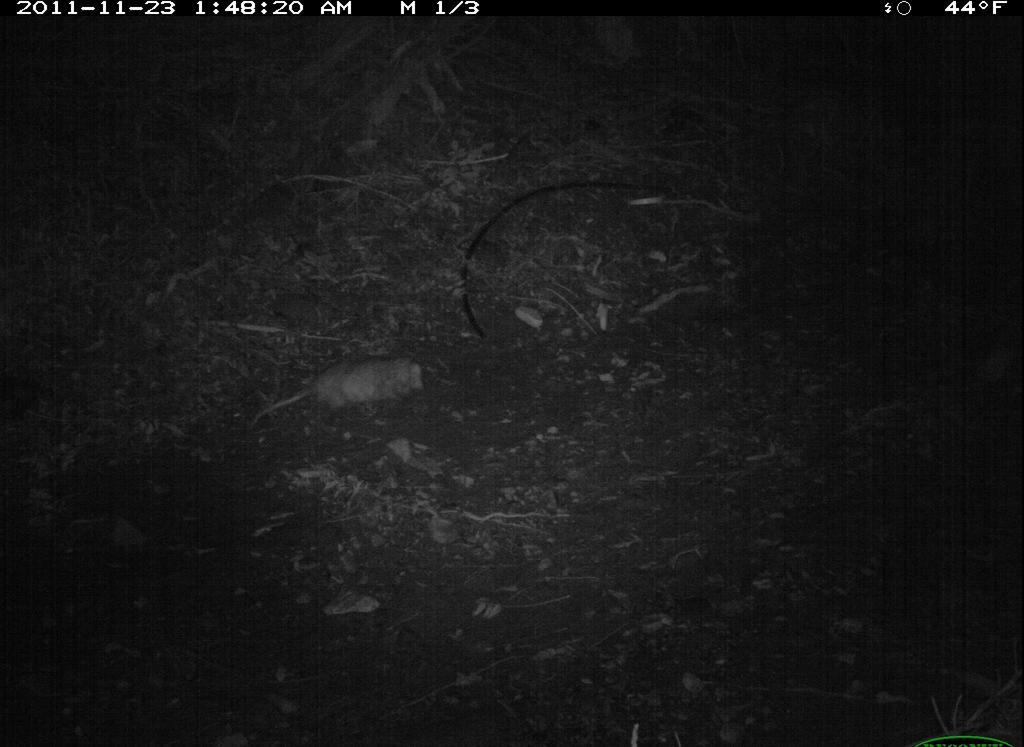opossum: (244, 355, 438, 442)
